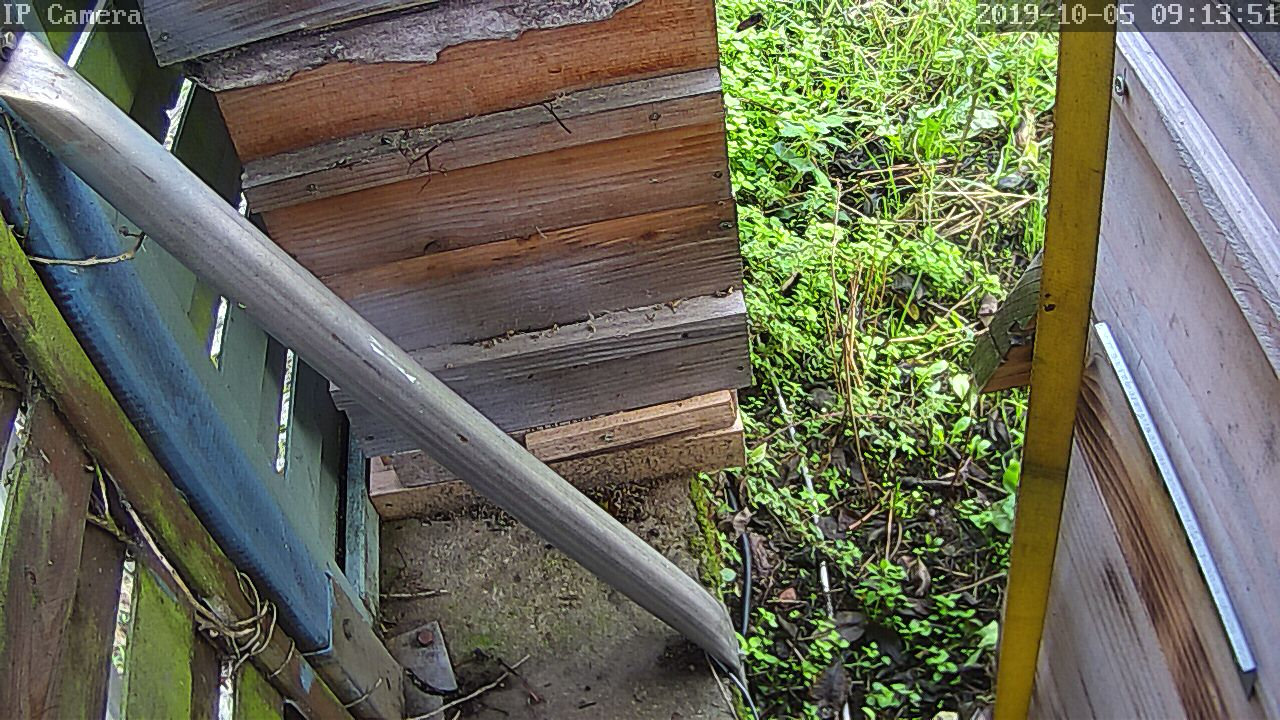hornet: (791, 163, 821, 206)
